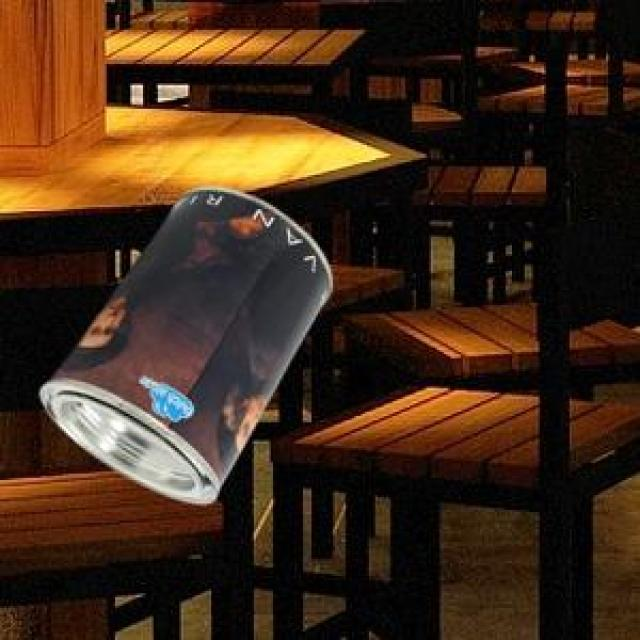logam: (37, 185, 330, 500)
